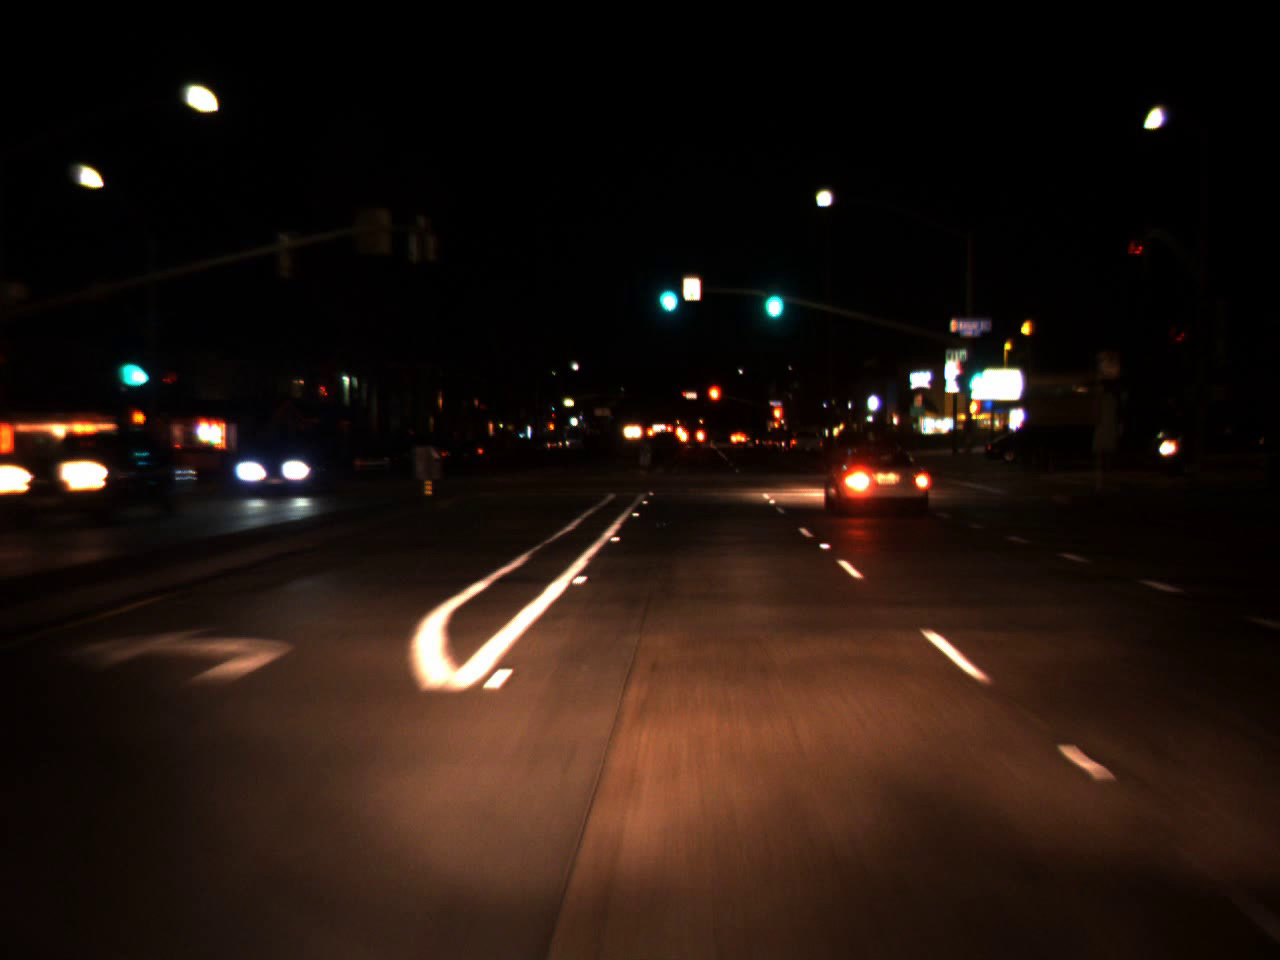go: (116, 335, 144, 395), (651, 265, 681, 319), (757, 273, 787, 318), (963, 350, 986, 395)
stop: (705, 382, 723, 419), (771, 404, 786, 431)
